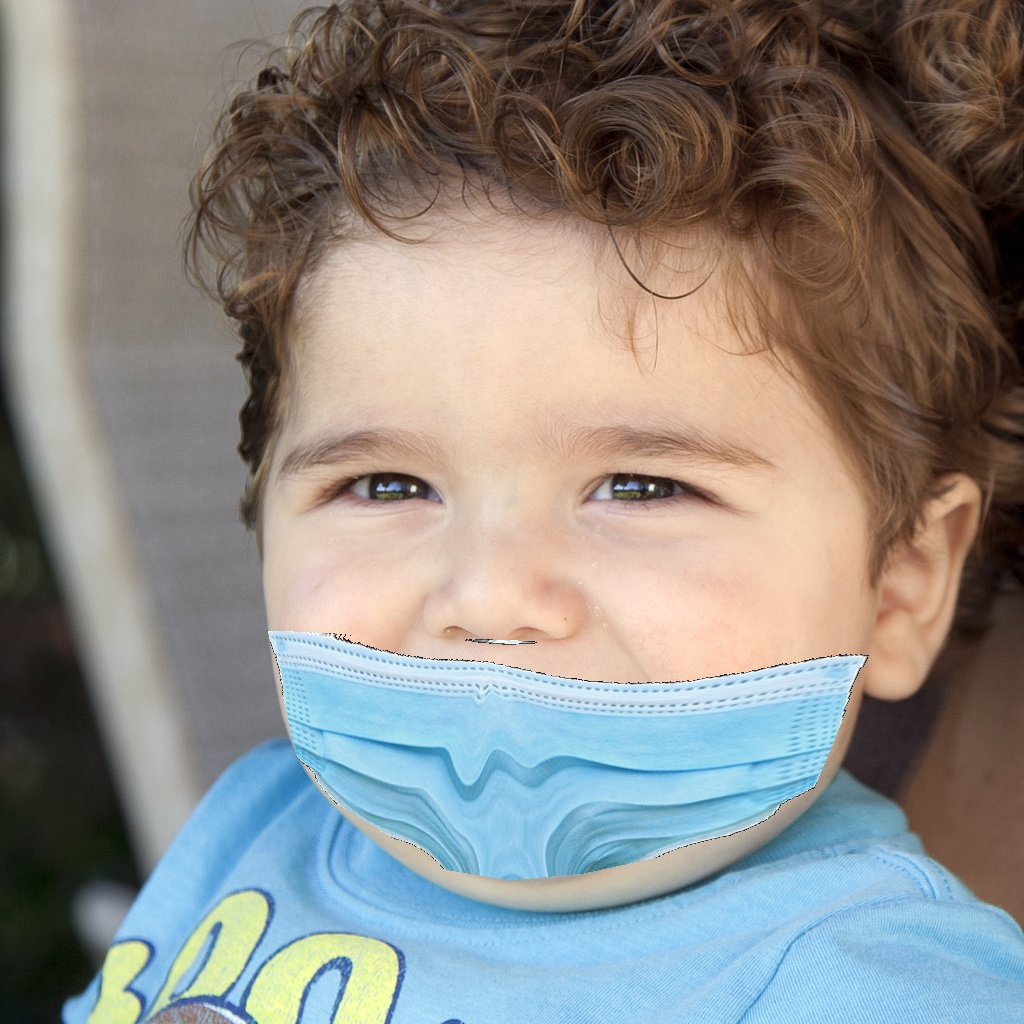mask_weared_incorrect: (232, 376, 887, 916)
